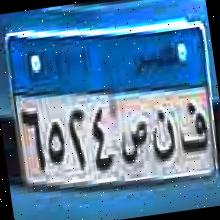2: (64, 101, 94, 172)
4: (86, 100, 117, 180)
5: (42, 115, 69, 172)
6: (18, 104, 49, 178)
faa: (174, 96, 212, 162)
noon: (149, 106, 180, 168)
saad: (117, 116, 152, 170)
